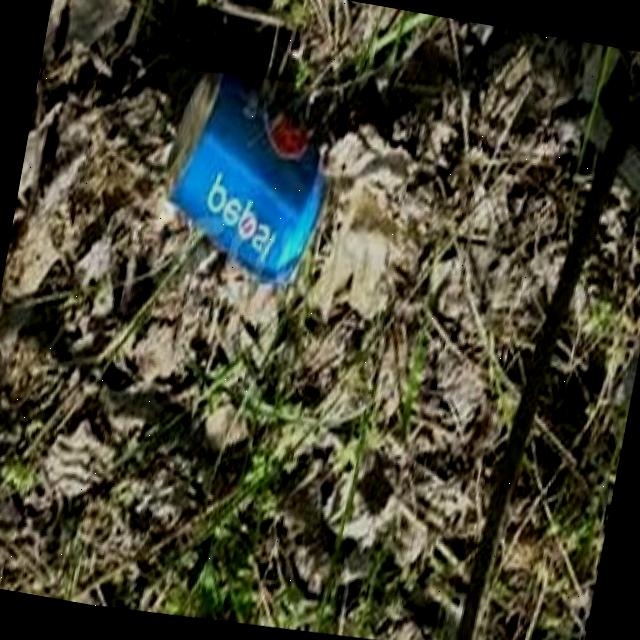trash: (140, 59, 356, 292)
